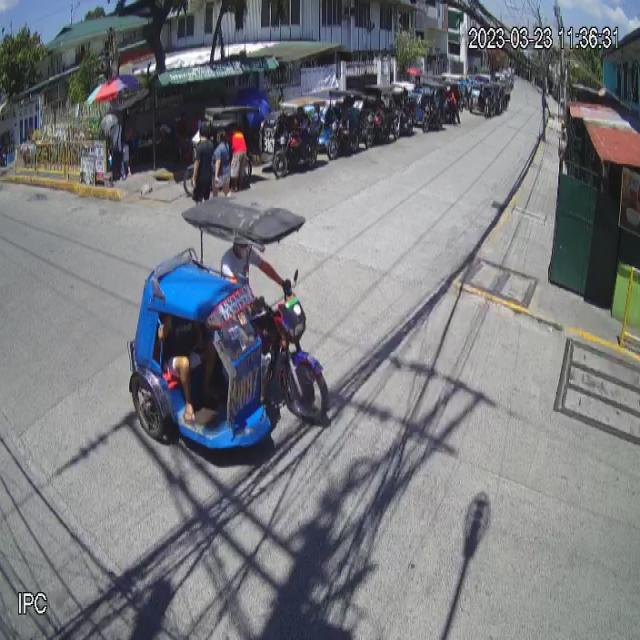Tricycle: (127, 196, 329, 460)
